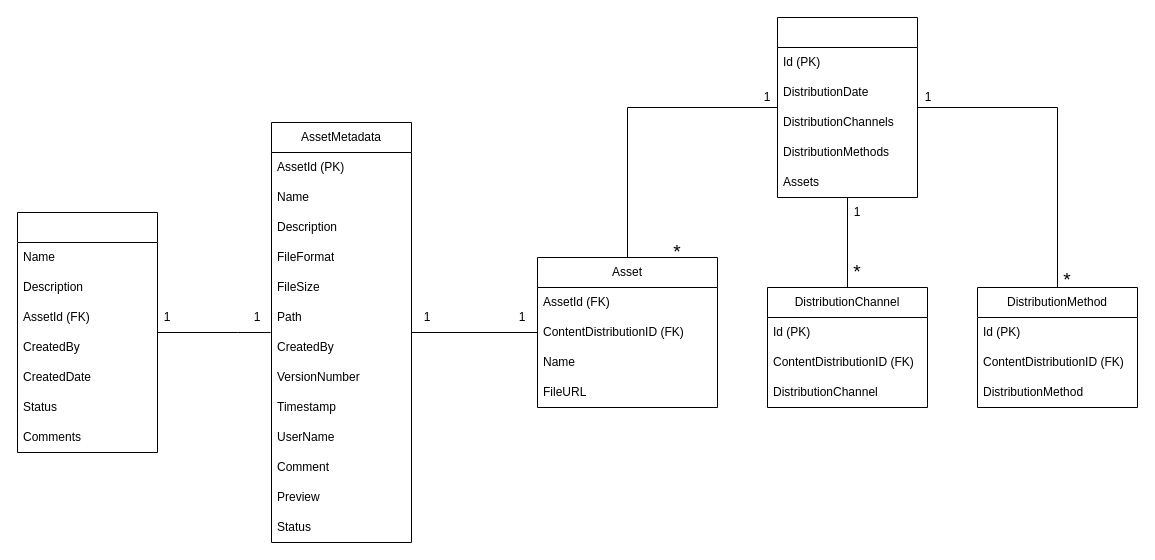
Some shapes in this 1155 by 560 pixel diagram are drawn without their labels. Each missing label, with the box of its shape:
Breifing: (16, 212, 158, 452)
ContentDistribution: (776, 16, 918, 198)
